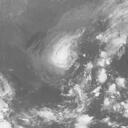cyclone: (48, 28, 84, 71)
